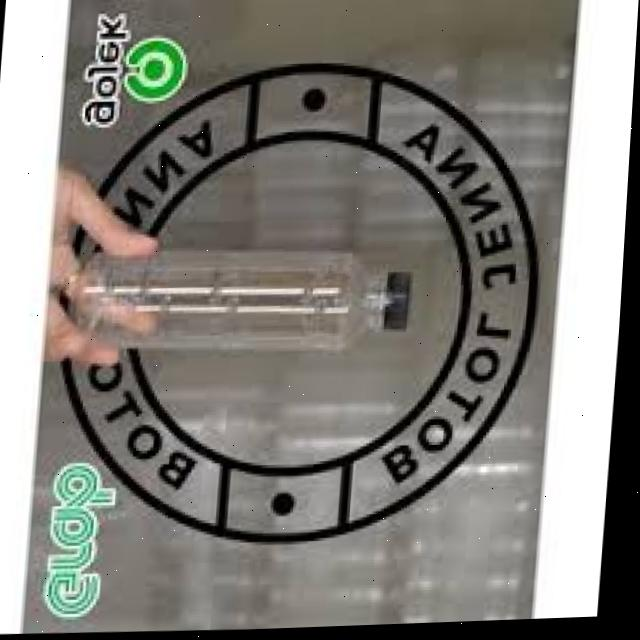Dry: (53, 198, 427, 387)
